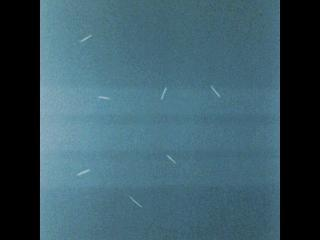scratch: (158, 151, 177, 168), (208, 82, 224, 100), (127, 193, 144, 209), (77, 32, 93, 45), (74, 166, 92, 177), (159, 85, 168, 101), (98, 95, 112, 101)
